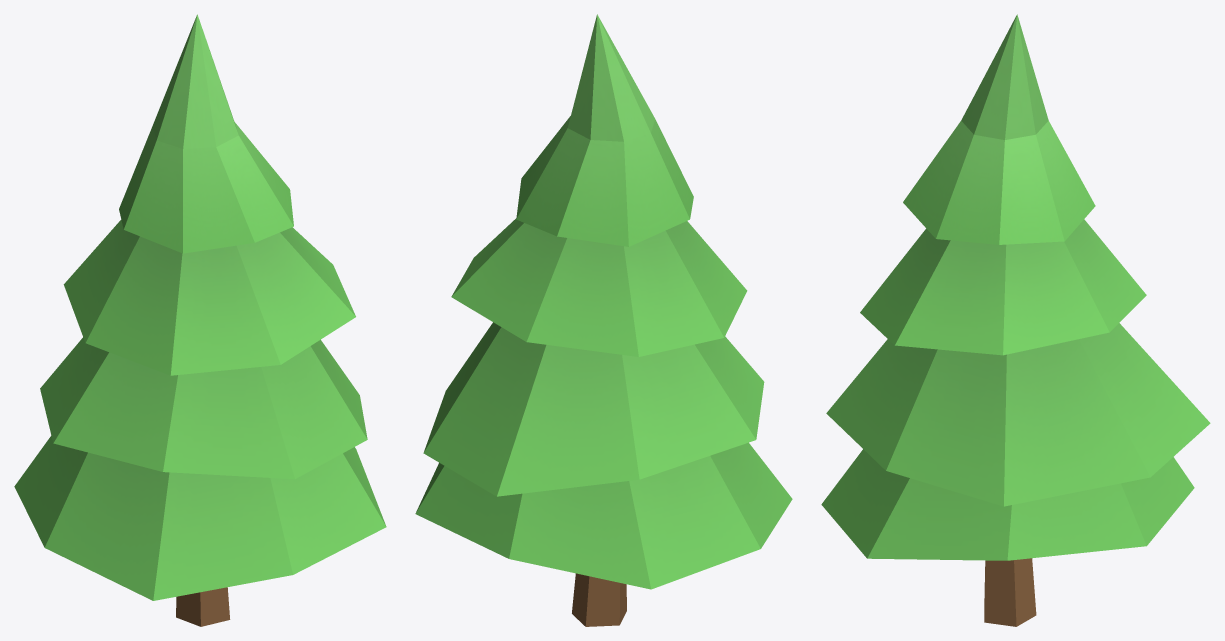
Rendered from Fir_Tree_OneSided_m_03.fbx.
The picture shows the model from 3 angles, left to right: view 1: azimuth 30°, elevation 25°; view 2: azimuth 150°, elevation 25°; view 3: azimuth 270°, elevation 25°; orthographic projection.
Parts seen in each view (by area): view 1: Fir_Tree_OneSided_m_03; view 2: Fir_Tree_OneSided_m_03; view 3: Fir_Tree_OneSided_m_03.
Boxes of the visible parts, bbox=[...] form: Fir_Tree_OneSided_m_03: bbox=[14, 14, 386, 626]; Fir_Tree_OneSided_m_03: bbox=[415, 14, 792, 626]; Fir_Tree_OneSided_m_03: bbox=[821, 14, 1210, 626].
Bounding box in the file's own units: 384 × 701 × 412.
